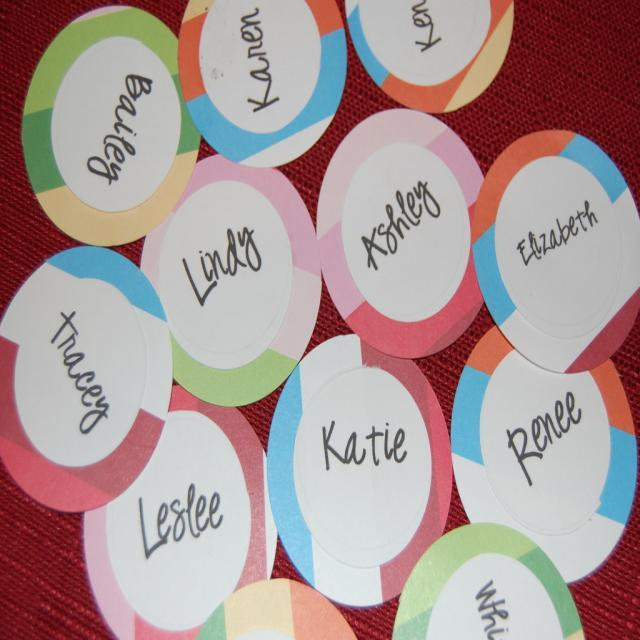ceramic plate: (306, 75, 498, 382), (266, 329, 452, 611), (139, 154, 330, 421), (480, 131, 640, 359)
